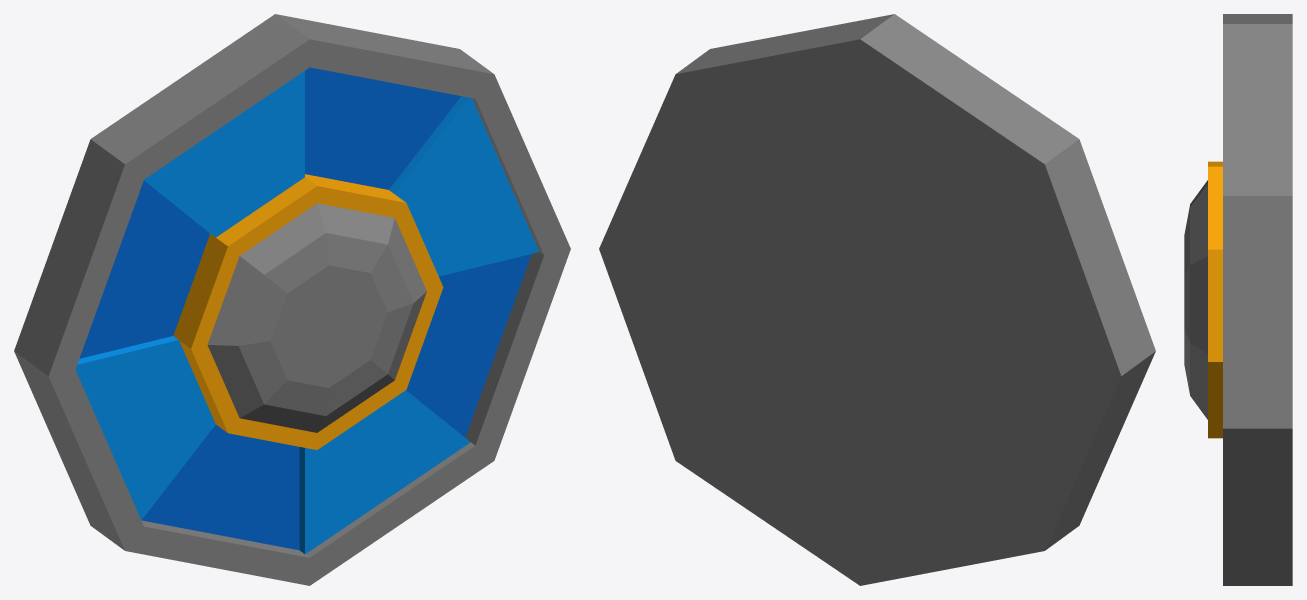
Rendered from shield.fbx.
3 renders of one model, left to right at view 1: azimuth 30°, elevation 25°; view 2: azimuth 150°, elevation 25°; view 3: azimuth 270°, elevation 25°, orthographic.
Parts seen in each view (by area): view 1: shield; view 2: shield; view 3: shield.
Boxes of the visible parts, x1,y1,x2,y2 form: shield: (14, 14, 570, 585); shield: (599, 14, 1155, 585); shield: (1184, 14, 1292, 585).
Bounding box in the file's own units: 299 × 299 × 53.37.
Materials: 1 (1 with a texture image).
